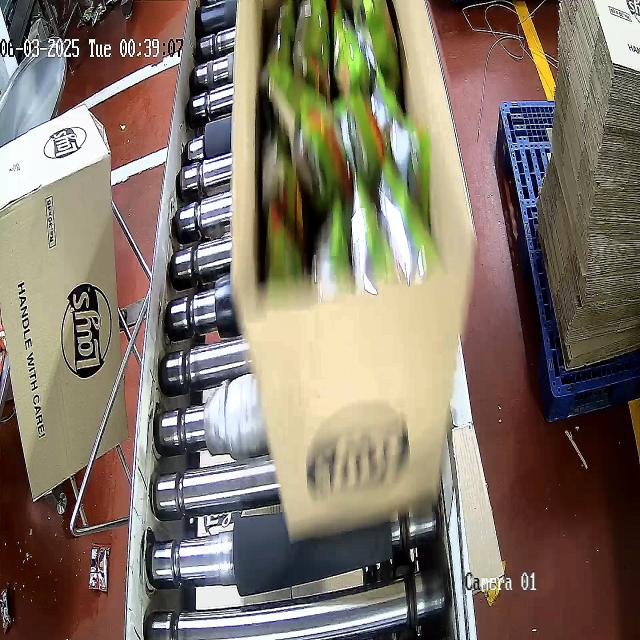YOGURT_HERB: (258, 0, 438, 285)
